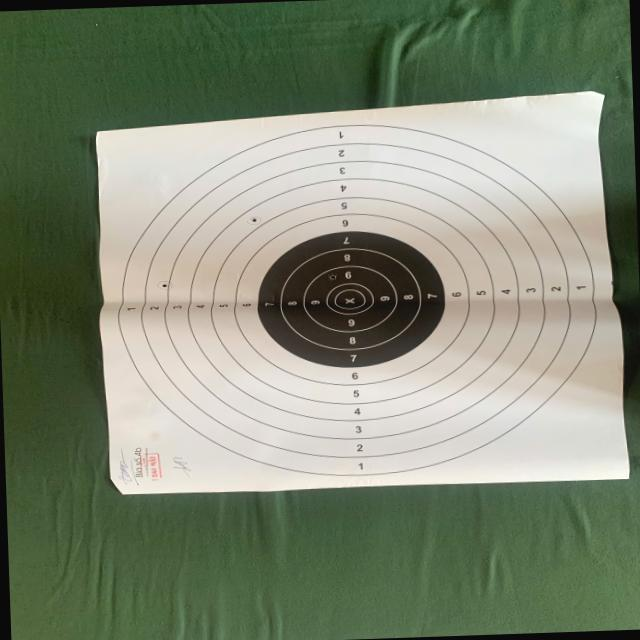bullet: (249, 217, 260, 222), (160, 281, 167, 287), (331, 272, 334, 279)
target: (95, 98, 629, 494)
